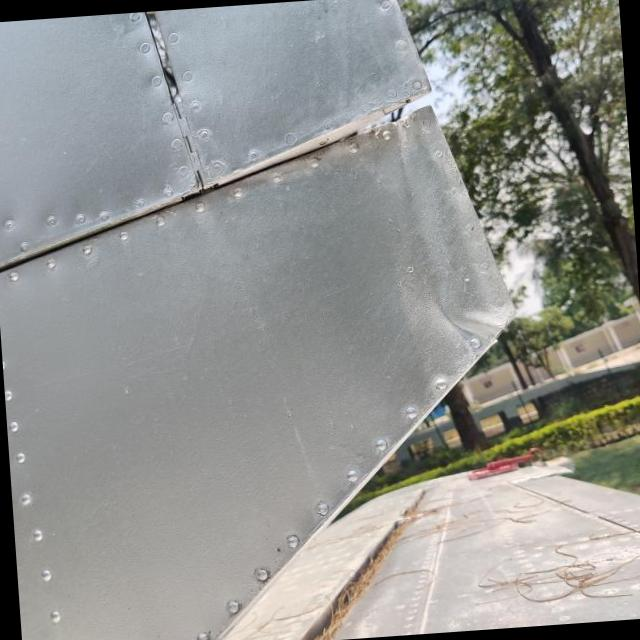Dent: (434, 265, 514, 361)
